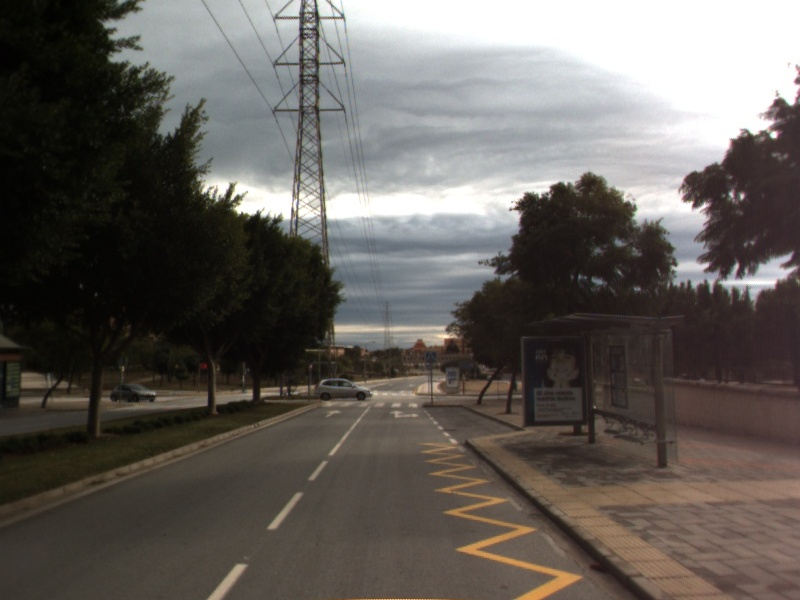STRAIGHT: (323, 407, 344, 419)
STRAIGHT_RIGHT: (387, 408, 421, 420)
